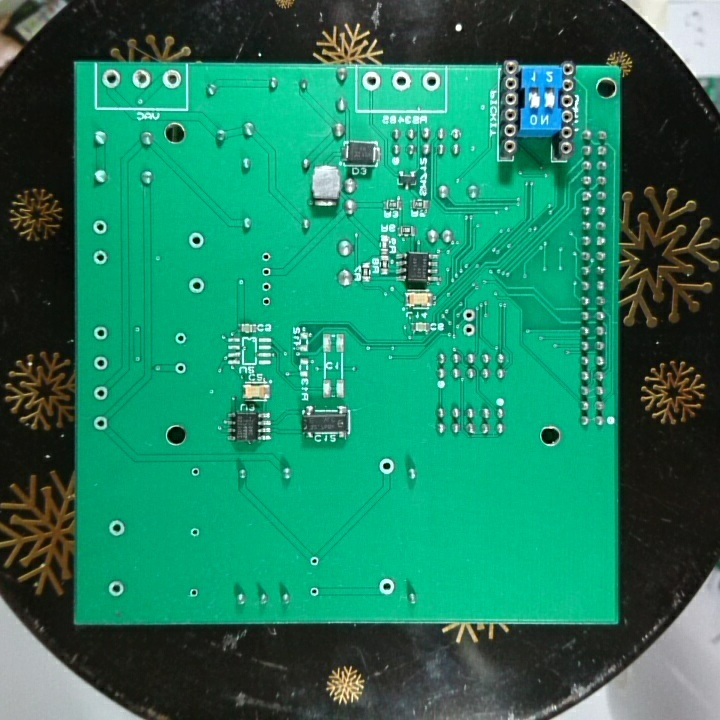F: (417, 69, 445, 95), (160, 66, 184, 92), (388, 69, 412, 94), (128, 68, 154, 90), (100, 67, 122, 92), (105, 517, 128, 540), (359, 69, 382, 92), (184, 229, 208, 251), (376, 575, 397, 598), (185, 275, 208, 296), (377, 455, 396, 478), (106, 578, 126, 599), (91, 247, 110, 269), (90, 217, 110, 237), (91, 323, 110, 343), (91, 353, 111, 372), (91, 383, 109, 403), (91, 412, 108, 432), (461, 306, 478, 324), (305, 553, 322, 569), (172, 330, 188, 347), (461, 322, 478, 338), (258, 295, 276, 309), (172, 360, 187, 376), (185, 586, 201, 600), (259, 280, 275, 294), (188, 525, 202, 540), (188, 465, 202, 480), (259, 249, 274, 263), (260, 264, 274, 278), (308, 585, 320, 600)
